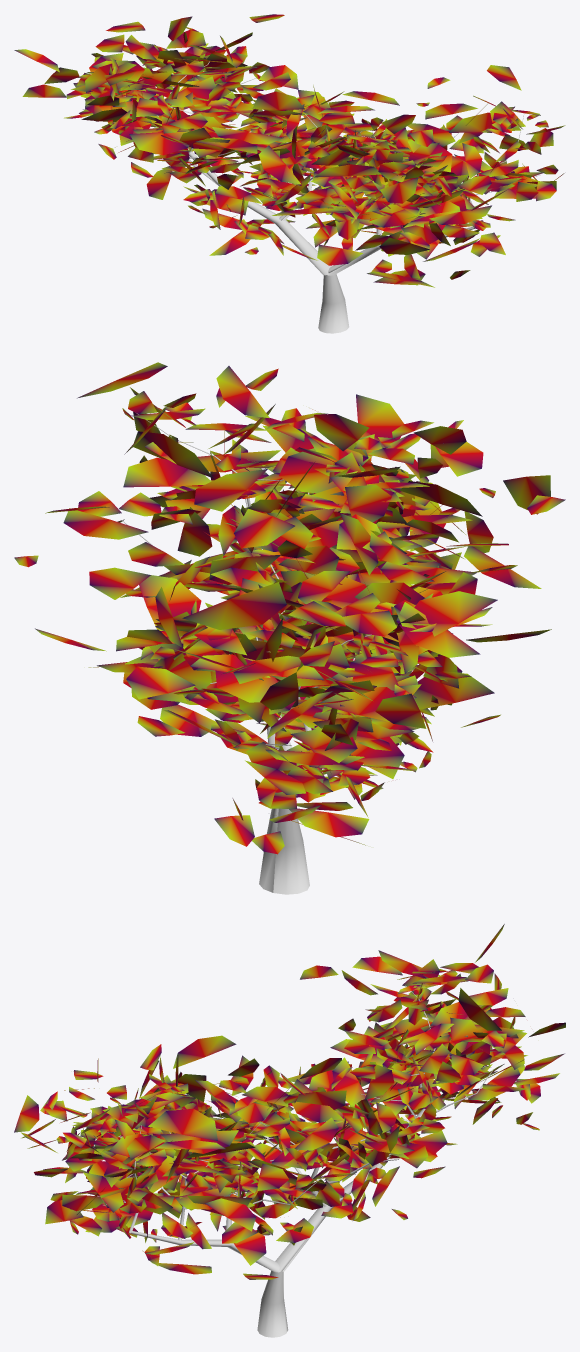
Rendered from arbre1.glb.
3 views of the same model, one above another, from view 1: azimuth 30°, elevation 25°; view 2: azimuth 150°, elevation 25°; view 3: azimuth 270°, elevation 25° (orthographic). The views are drawn at different scales.
Parts seen in each view (by area): view 1: leaves, batch; view 2: leaves, batch; view 3: leaves, batch.
Part boxes in pixels (box(x1,y1,x2,y2)): leaves: box(14, 14, 565, 287); batch: box(125, 61, 540, 333); leaves: box(14, 362, 565, 854); batch: box(121, 413, 371, 894); leaves: box(14, 924, 565, 1279); batch: box(103, 985, 493, 1337).
Bounding box in the file's own units: 15.2 × 9.75 × 16.31.
